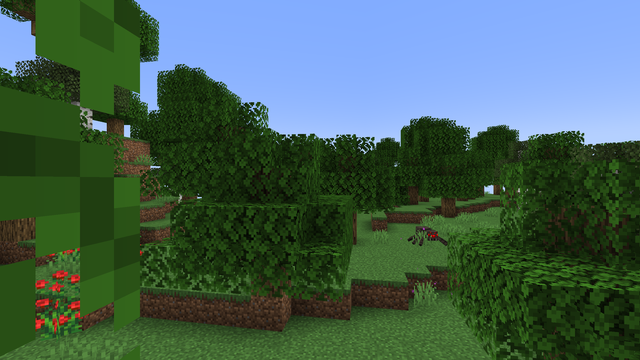araignees: (412, 225, 442, 246)
